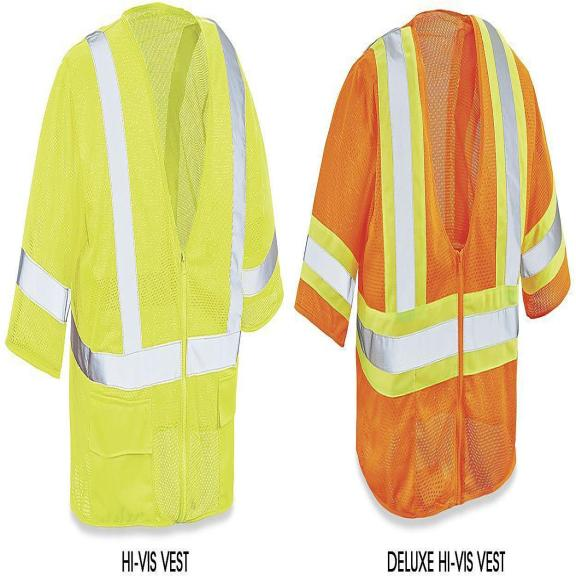safety_vest: (6, 0, 287, 529), (292, 0, 571, 520)
